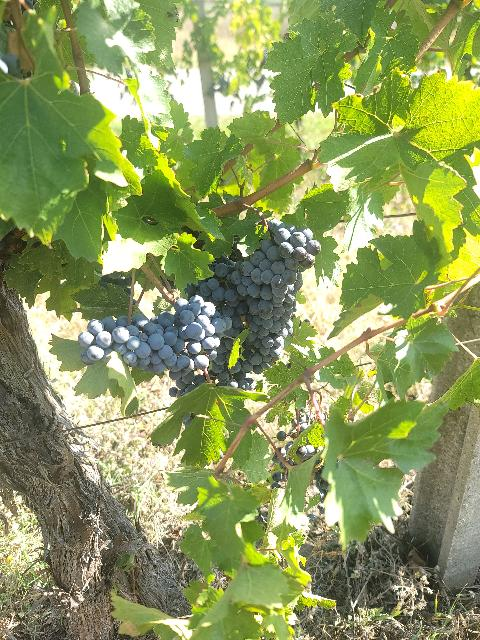grapes: (231, 219, 321, 374), (78, 311, 191, 374), (174, 295, 226, 370), (200, 258, 248, 338)
